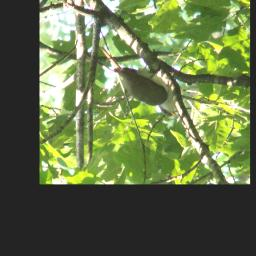Cuckoo: (98, 45, 181, 119)
